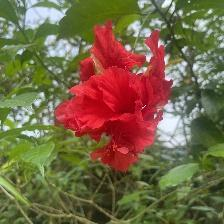hibiscus: (53, 15, 176, 177)
